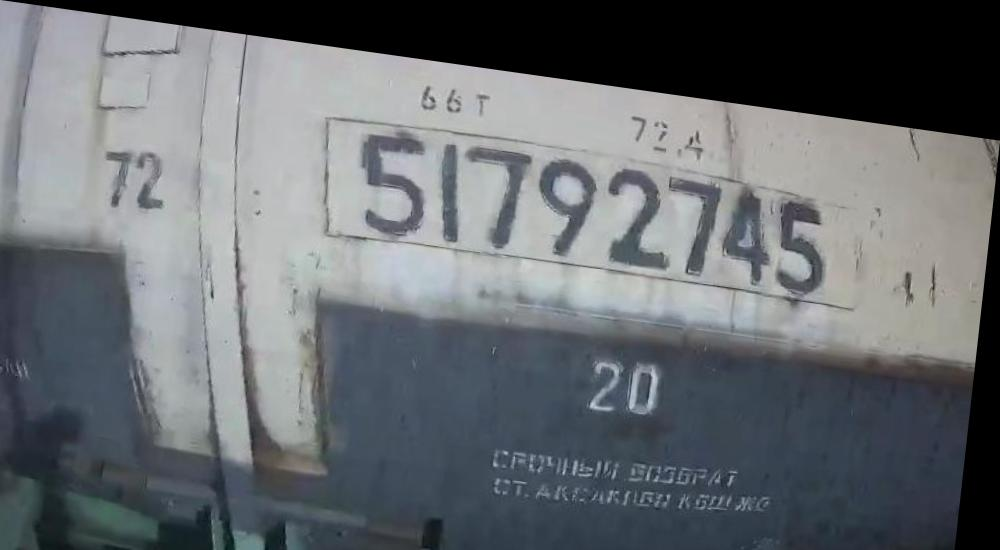Wagon-number: (353, 110, 843, 278)
